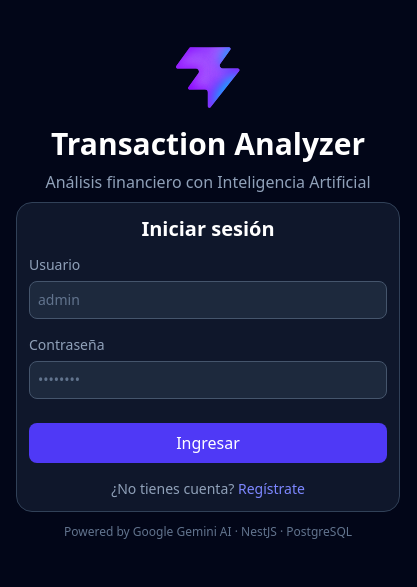
LoginPage › shows error message on failed login
Type "juan" into the field with placeholder "admin". click: [208, 300]
box: [29,281,387,319]
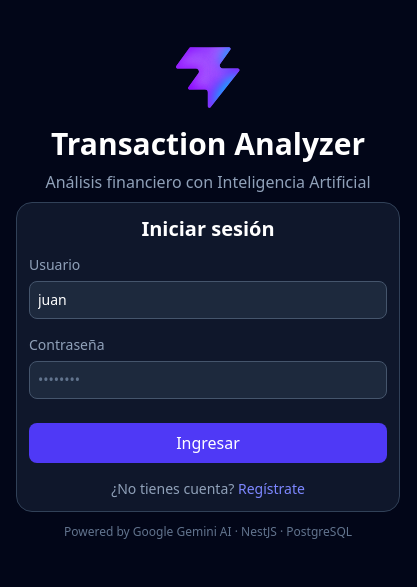
Type "wrongpass" into the password field with placeholder "••••••••". click: [208, 380]
box: [29,361,387,399]
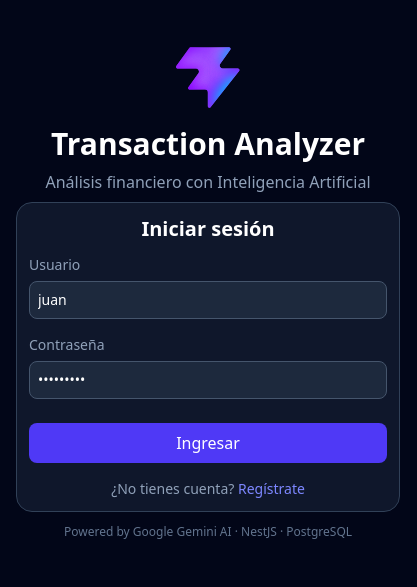
Click the button "Ingresar". click: [208, 443]
box: [29,423,387,463]
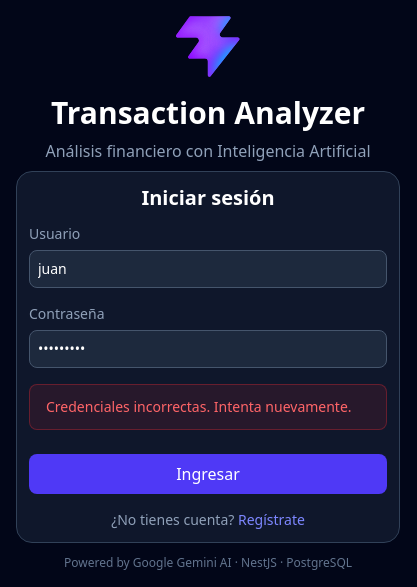
Check: the text "Credenciales incorrectas. Intenta nuevamente." is shown, box [29,384,387,430]
